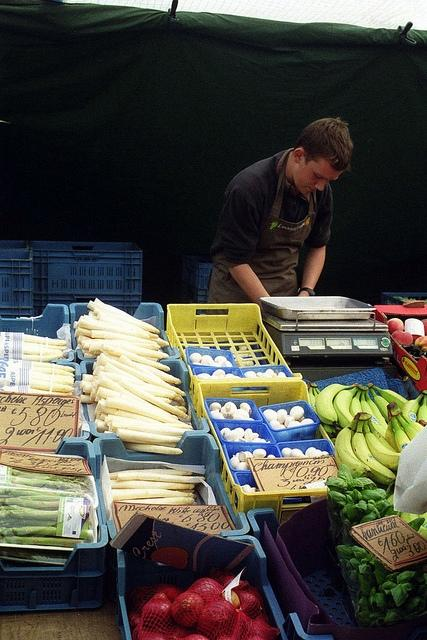asparagus: (98, 353, 186, 396), (96, 376, 179, 420), (118, 378, 191, 422), (87, 300, 164, 340), (94, 298, 160, 334), (106, 396, 188, 424), (100, 344, 170, 372), (118, 354, 182, 384), (82, 384, 172, 404), (96, 311, 159, 339), (79, 316, 150, 339), (94, 400, 165, 423), (95, 380, 175, 399), (0, 373, 73, 392), (109, 420, 195, 436), (89, 342, 169, 359), (0, 526, 94, 540), (116, 472, 204, 486), (0, 535, 87, 548), (112, 488, 198, 501), (12, 476, 82, 490), (91, 330, 158, 344), (110, 479, 194, 490), (116, 428, 181, 442), (123, 441, 183, 454), (105, 362, 144, 382), (0, 509, 58, 521), (97, 372, 144, 386), (113, 497, 194, 505), (0, 498, 59, 508), (29, 372, 74, 385), (106, 340, 160, 350), (24, 334, 66, 346), (32, 368, 75, 378), (34, 362, 76, 372), (24, 342, 66, 350), (30, 388, 72, 396), (24, 354, 62, 362), (81, 338, 107, 349), (108, 414, 141, 422), (77, 334, 93, 344), (80, 394, 96, 404), (78, 327, 92, 338), (97, 421, 109, 431), (80, 380, 92, 389), (83, 373, 94, 382), (84, 352, 97, 358), (96, 366, 105, 374), (74, 322, 78, 328)
banana: (351, 420, 396, 484), (362, 420, 400, 470), (333, 385, 362, 428), (368, 420, 398, 452), (372, 385, 408, 410), (370, 388, 390, 424), (401, 512, 427, 538), (402, 392, 424, 422), (396, 414, 420, 441), (350, 390, 362, 418), (416, 394, 427, 422)
mushroom: (290, 406, 304, 422), (221, 403, 235, 418), (276, 409, 290, 424), (232, 409, 250, 420), (263, 409, 278, 422), (239, 402, 252, 417), (224, 429, 236, 442), (239, 451, 253, 462), (252, 448, 266, 458), (290, 448, 304, 458), (235, 461, 250, 470), (284, 416, 295, 428), (189, 353, 202, 363), (209, 402, 222, 412), (231, 428, 244, 438), (230, 457, 240, 469), (212, 409, 225, 418), (244, 428, 253, 441), (288, 420, 302, 428), (200, 358, 214, 366), (212, 369, 226, 377), (305, 447, 316, 457), (281, 448, 292, 458), (214, 356, 227, 364), (200, 355, 213, 363), (220, 428, 230, 438), (271, 424, 286, 430), (300, 418, 314, 424), (244, 371, 256, 378), (197, 374, 211, 379), (220, 361, 233, 366), (252, 433, 260, 440), (249, 487, 257, 493), (224, 374, 236, 378), (278, 372, 286, 378), (256, 372, 263, 378), (322, 450, 329, 456), (238, 438, 248, 442), (268, 454, 276, 458), (246, 418, 254, 421), (230, 376, 241, 378), (260, 439, 266, 442), (250, 376, 259, 378), (266, 441, 270, 443)
peach: (392, 330, 413, 346), (386, 318, 404, 334), (414, 336, 427, 351), (421, 318, 427, 336)
